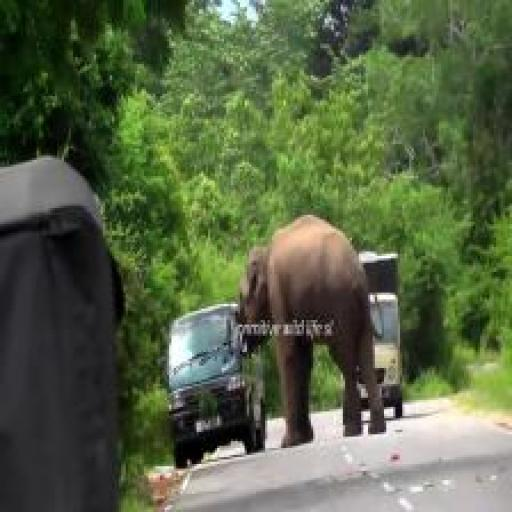Elephant: (208, 215, 405, 432)
